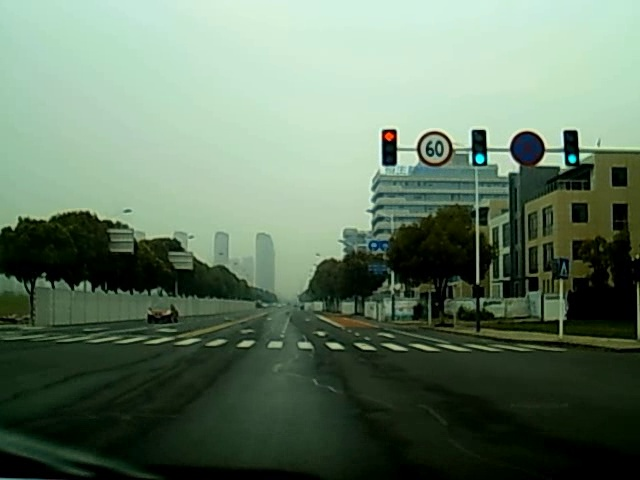Traffic_Light_go: (563, 131, 578, 169), (472, 131, 487, 168)
Traffic_Light_stop: (381, 129, 396, 168)
